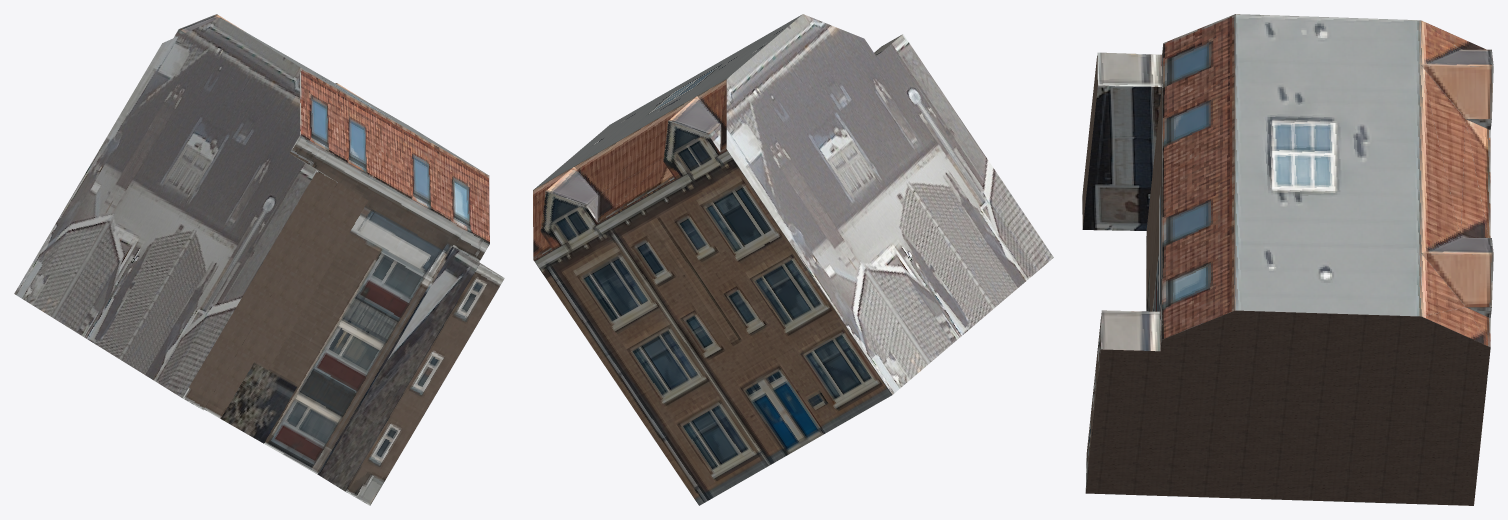
3 renders of one model, left to right at view 1: azimuth 30°, elevation 25°; view 2: azimuth 150°, elevation 25°; view 3: azimuth 270°, elevation 25°, orthographic. The views are drawn at different scales.
Visible parts, largest first — view 1: BAG_0599100000670806 (×4); view 2: BAG_0599100000670806 (×5); view 3: BAG_0599100000670806 (×5).
Boxes of the visible parts, x1,y1,x2,y2 form: BAG_0599100000670806 (×4): [14, 17, 504, 505]; BAG_0599100000670806 (×5): [533, 14, 1053, 505]; BAG_0599100000670806 (×5): [1082, 14, 1493, 505].
Size of the model in its own units: 16.51 by 17.16 by 13.04.
6 materials, 6 textured.
